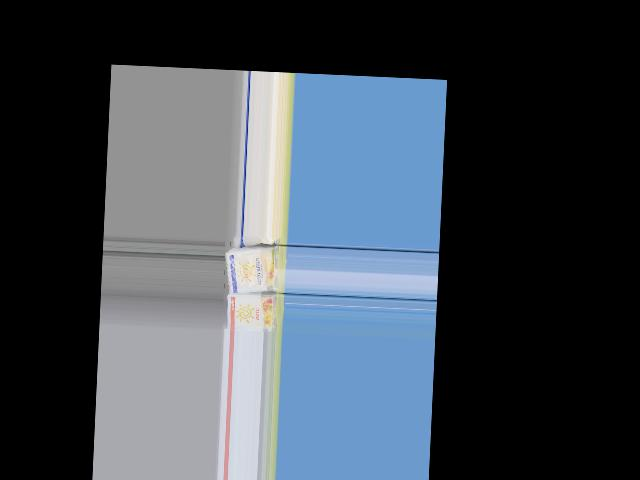cheese: (223, 293, 284, 334)
